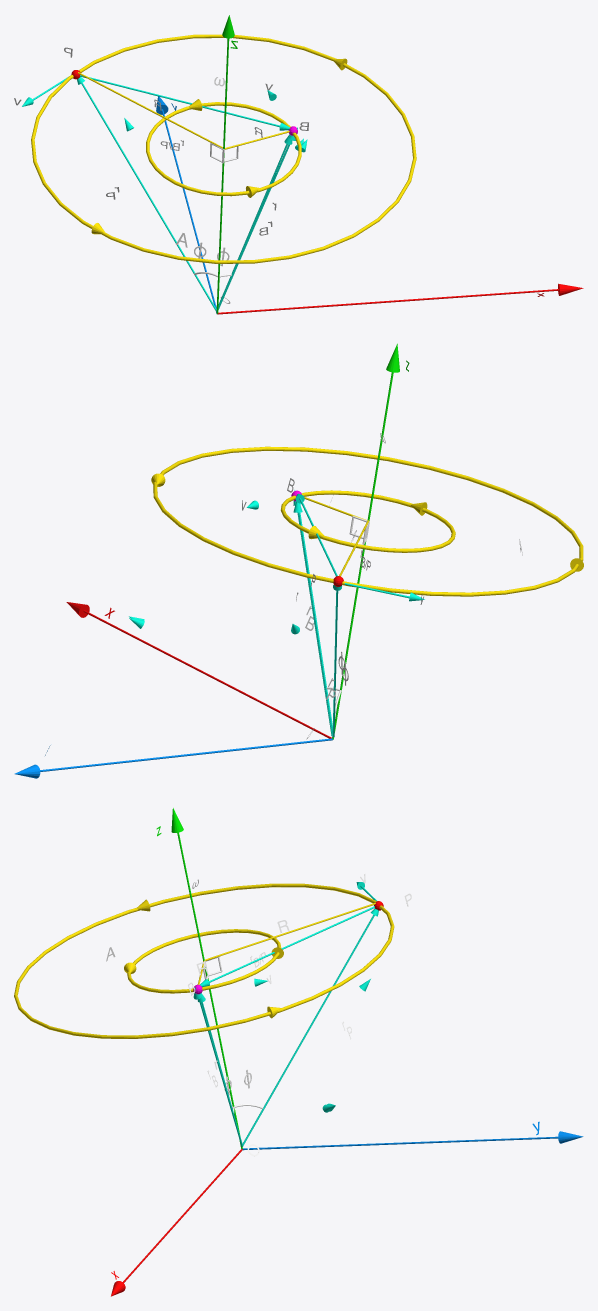
Rendered from axis.gltf.
3 views of the same model, one above another, from view 1: azimuth 30°, elevation 25°; view 2: azimuth 150°, elevation 25°; view 3: azimuth 270°, elevation 25° (orthographic). The views are drawn at different scales.
Visible parts, largest first — view 1: y-Mat (×5), y-Mat.3; view 2: y-Mat (×5), y-Mat.3; view 3: y-Mat (×5), y-Mat.3.
Part boxes in pixels (box(x1,y1,x2,y2)): y-Mat (×5): box(22, 15, 583, 314); y-Mat.3: box(14, 47, 308, 303); y-Mat (×5): box(14, 343, 583, 778); y-Mat.3: box(242, 433, 522, 739); y-Mat (×5): box(14, 808, 583, 1296); y-Mat.3: box(106, 874, 411, 1156).
Size of what is drawn, in the model's own units: 6.18 by 4.13 by 6.34.
